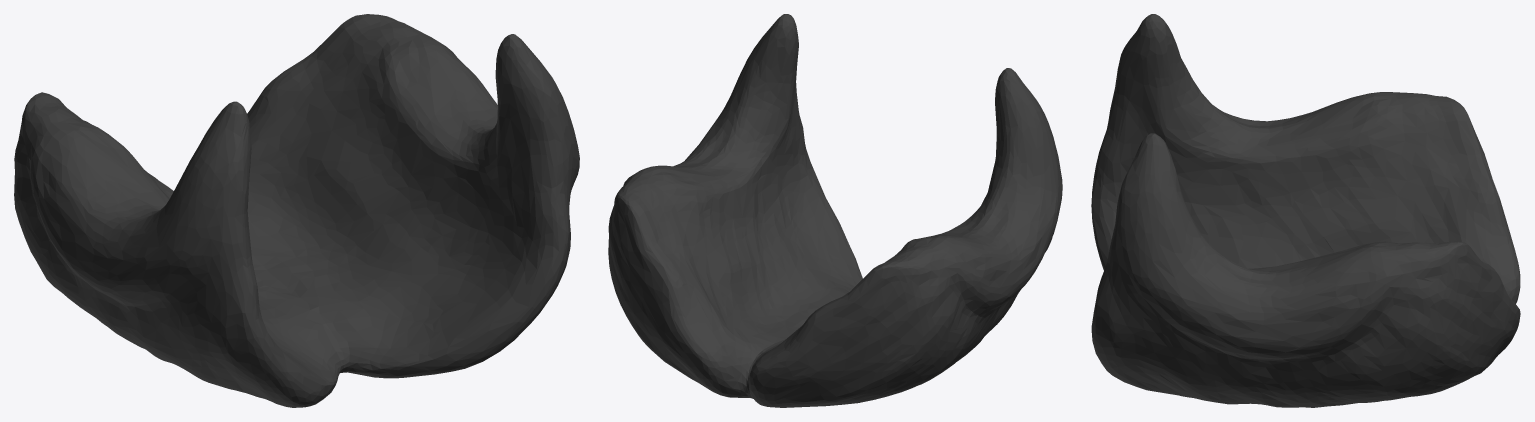
Rendered from m_temporalis.glb.
3 renders of one model, left to right at view 1: azimuth 30°, elevation 25°; view 2: azimuth 150°, elevation 25°; view 3: azimuth 270°, elevation 25°, orthographic. The views are drawn at different scales.
Visible parts, largest first — view 1: m_temporalis; view 2: m_temporalis; view 3: m_temporalis.
Boxes of the visible parts, x1,y1,x2,y2 form: m_temporalis: (14,14,579,407); m_temporalis: (608,14,1062,407); m_temporalis: (1091,14,1520,407).
Bounding box in the file's own units: 0.00264 × 0.00194 × 0.00251.
Materials: 1 (1 with a texture image).
